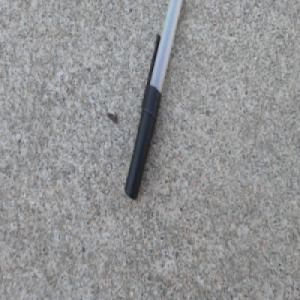Pen: (122, 0, 183, 204)
